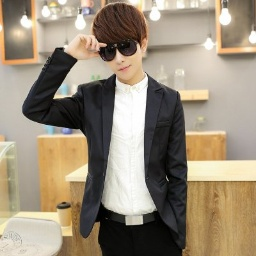face: (90, 1, 148, 82)
